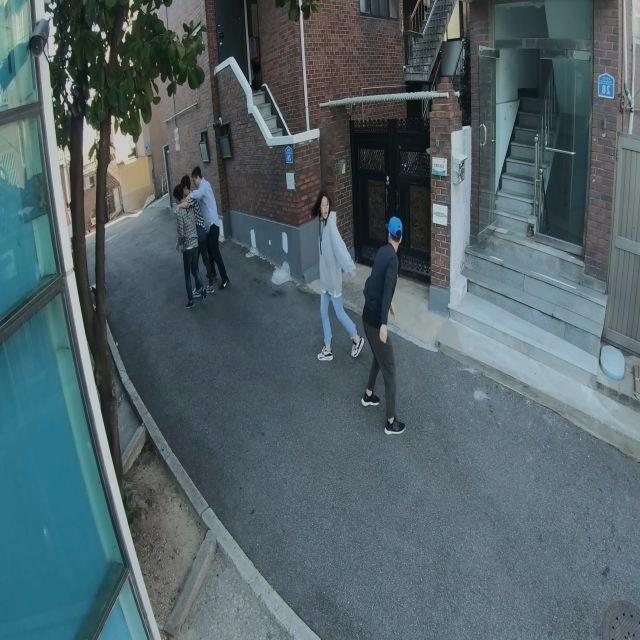non-fight: (357, 206, 401, 438), (312, 192, 357, 362), (181, 169, 228, 293), (180, 176, 215, 299), (171, 186, 197, 306)
